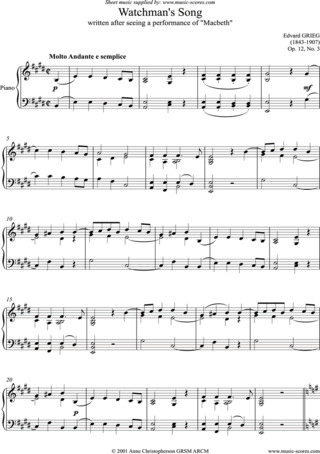Partitura: (0, 3, 319, 438)
